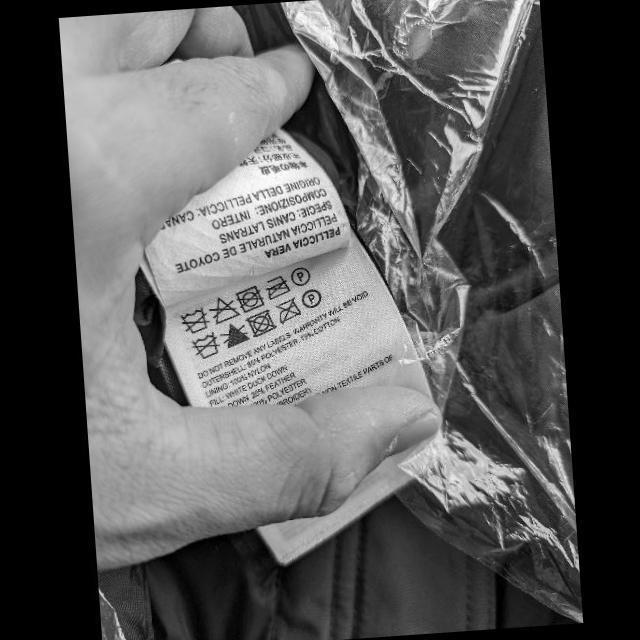DN_bleach: (205, 294, 242, 326), (216, 321, 252, 351)
DN_iron: (272, 296, 302, 326), (262, 273, 291, 301)
DN_tumble_dry: (242, 306, 278, 339), (233, 282, 266, 314)
DN_wash: (176, 305, 211, 335), (188, 330, 222, 360)
normal_dry_clean_solvents: (289, 266, 311, 288), (299, 288, 322, 308)
